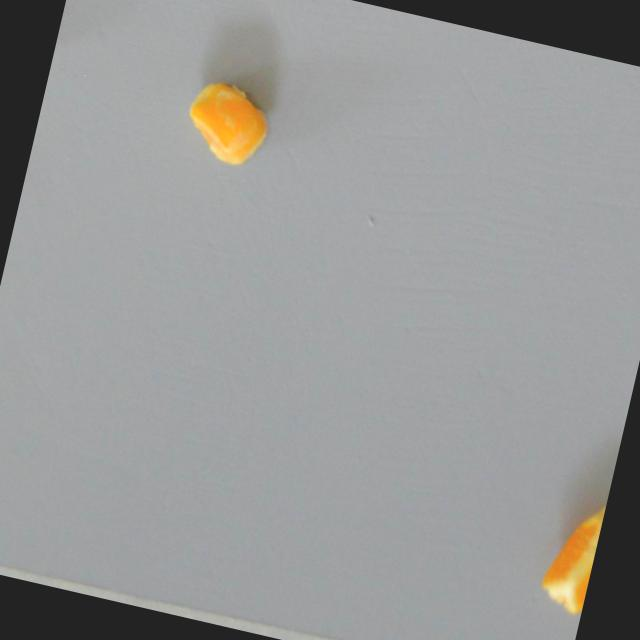dañado: (174, 70, 280, 173), (530, 486, 607, 619)
